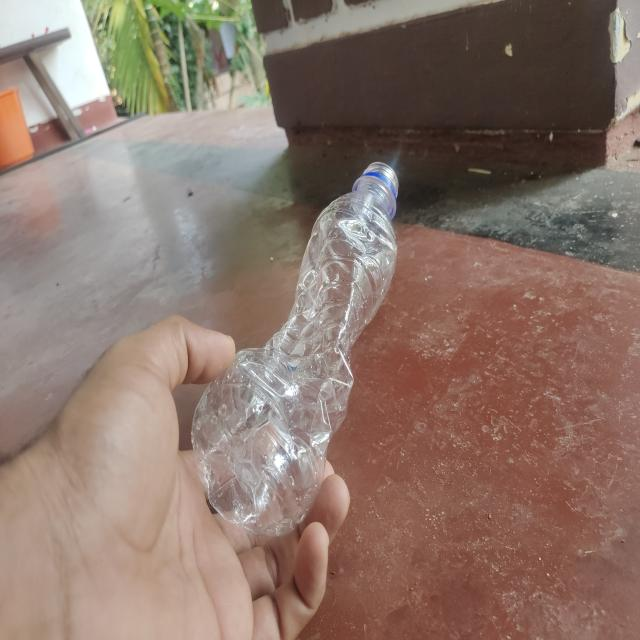plastic: (188, 156, 403, 544)
